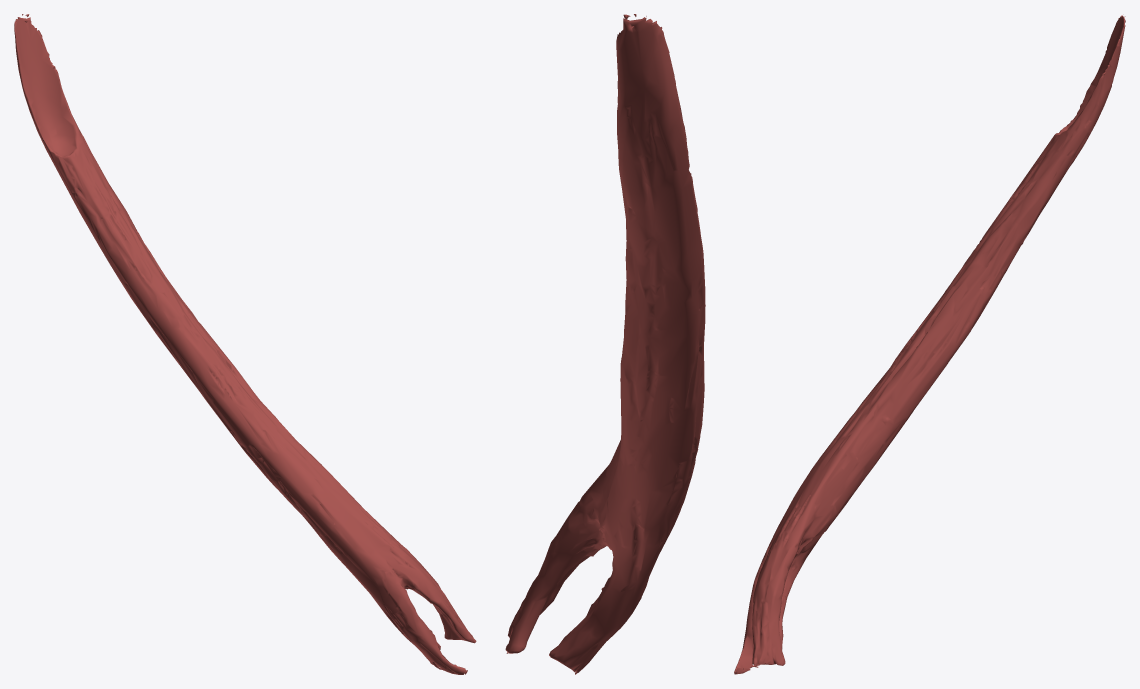
Rendered from FMA45826.glb.
3 views of the same model, side by side, from view 1: azimuth 30°, elevation 25°; view 2: azimuth 150°, elevation 25°; view 3: azimuth 270°, elevation 25° (orthographic). The views are drawn at different scales.
Visible parts, largest first — view 1: FMA45826; view 2: FMA45826; view 3: FMA45826.
Boxes of the visible parts, x1=… form: FMA45826: x1=14, y1=14, x2=476, y2=674; FMA45826: x1=505, y1=14, x2=705, y2=674; FMA45826: x1=734, y1=15, x2=1125, y2=674.
Bounding box in the file's own units: 0.0307 × 0.061 × 0.0395.
